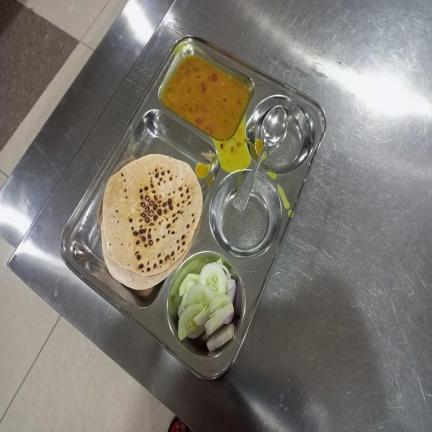Chana Dal: (162, 54, 248, 139)
Plate: (60, 34, 327, 378)
Roti: (101, 155, 203, 292)
Salad: (178, 258, 237, 353)
